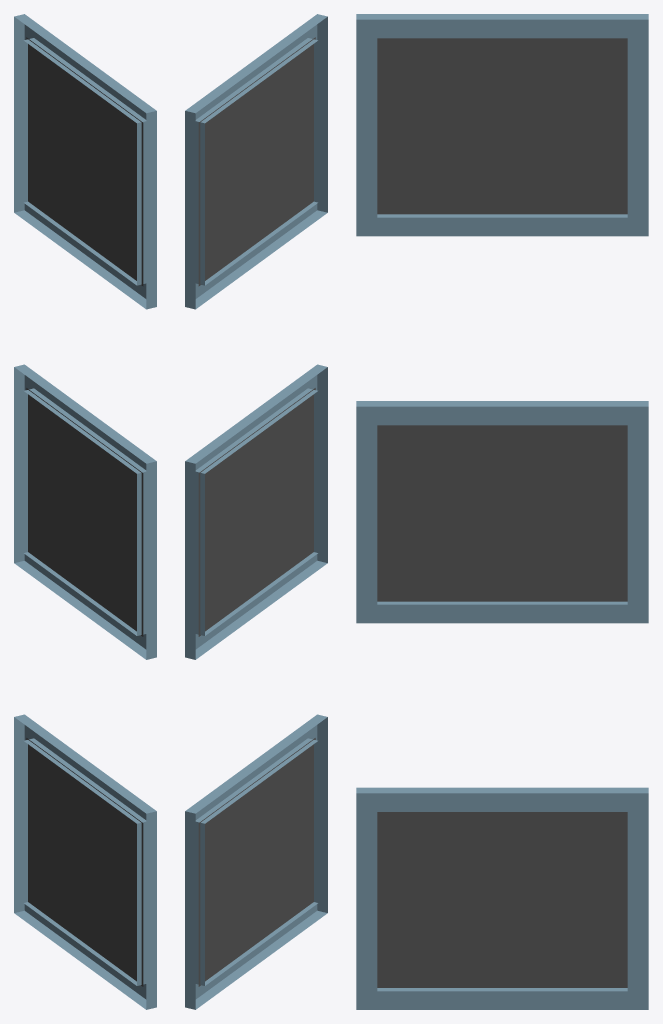
File: Office2_Photoframe_2.fbx
3 views of the same model, side by side, from view 1: azimuth 30°, elevation 25°; view 2: azimuth 150°, elevation 25°; view 3: azimuth 270°, elevation 25° (orthographic). The views are drawn at different scales.
Parts seen in each view (by area): view 1: Office2_Photoframe_2; view 2: Office2_Photoframe_2; view 3: Office2_Photoframe_2.
Boxes of the visible parts, box(x1,y1,x2,y2) form: Office2_Photoframe_2: box(14, 14, 156, 1009); Office2_Photoframe_2: box(185, 14, 327, 1009); Office2_Photoframe_2: box(356, 14, 648, 1009).
Bounding box in the file's own units: 1.32 × 108 × 28.9.
